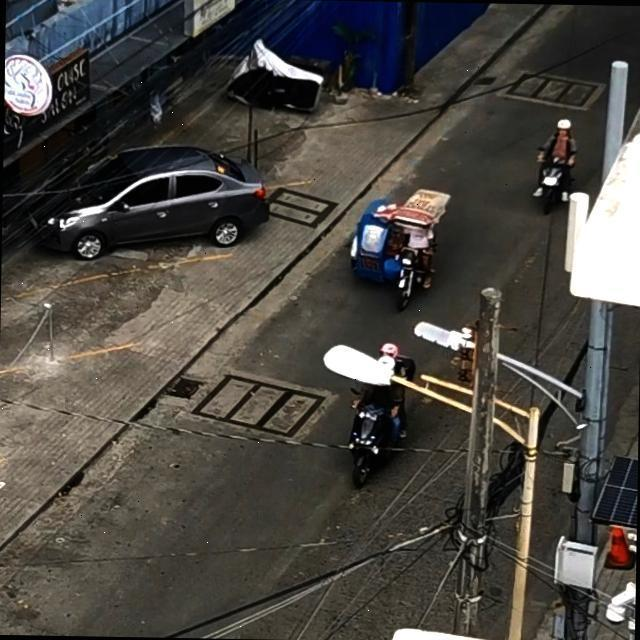Motorcycle: (344, 383, 406, 486), (530, 140, 578, 216)
Tricycle: (345, 186, 449, 310)
